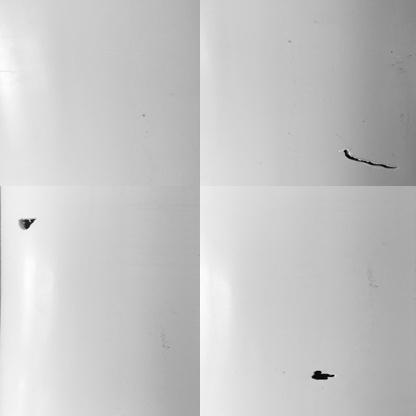fengxi: (338, 143, 402, 174)
kongdong: (17, 215, 39, 232), (310, 367, 334, 382)
